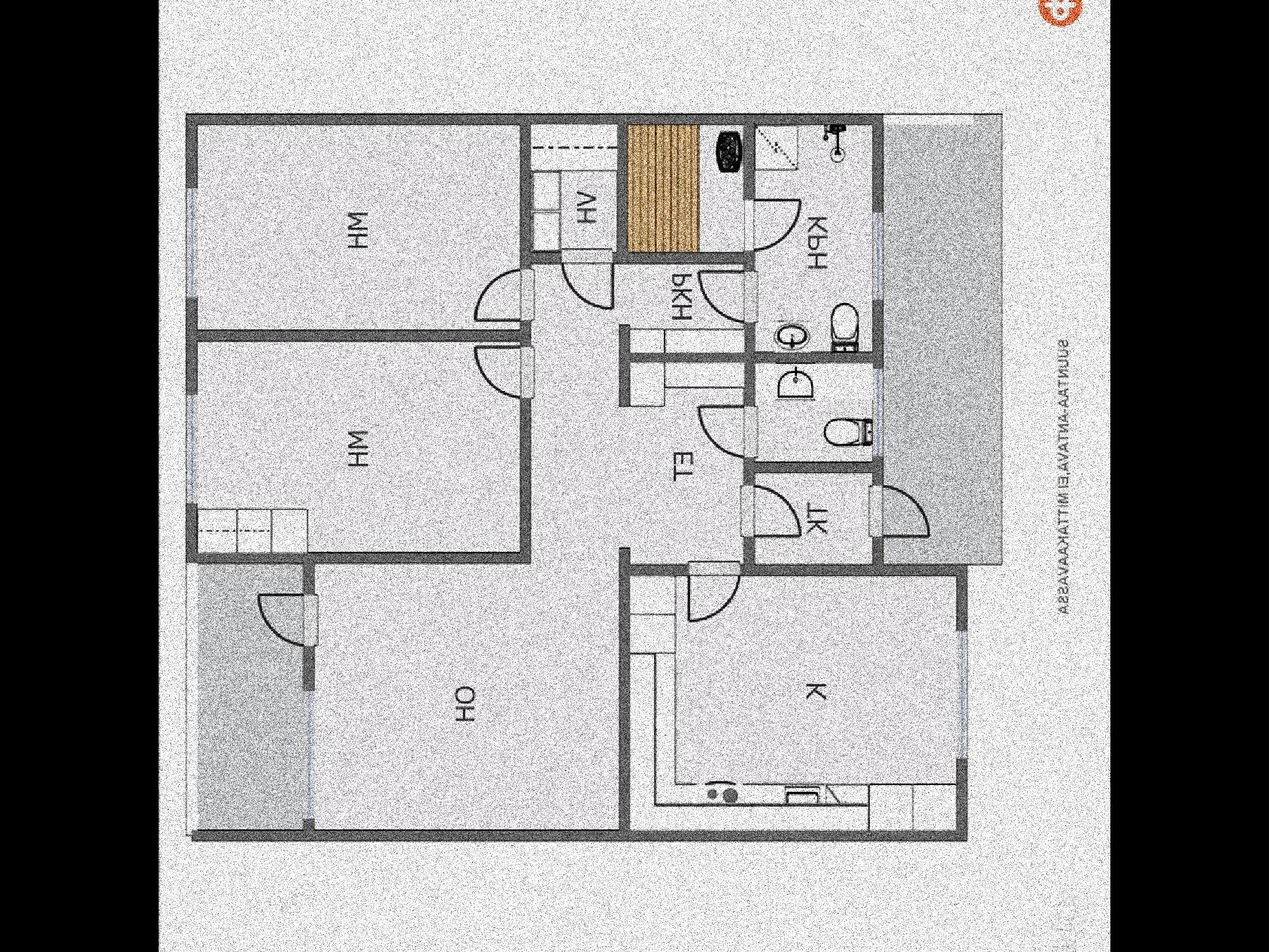door: (252, 579, 331, 653), (557, 237, 619, 315), (469, 337, 538, 404), (684, 555, 748, 626), (741, 189, 807, 257), (689, 402, 769, 456), (695, 269, 768, 328), (741, 482, 807, 541), (471, 268, 537, 325), (870, 483, 929, 538)
window: (297, 687, 321, 823), (953, 626, 970, 763), (181, 397, 199, 504), (869, 211, 888, 301), (867, 366, 885, 456), (186, 181, 199, 298)
zone: (313, 263, 744, 829), (628, 577, 955, 832), (197, 345, 520, 551), (196, 128, 519, 331), (192, 566, 302, 829), (749, 124, 869, 353), (628, 123, 742, 253), (756, 362, 871, 460), (531, 124, 616, 253), (751, 478, 871, 563)
